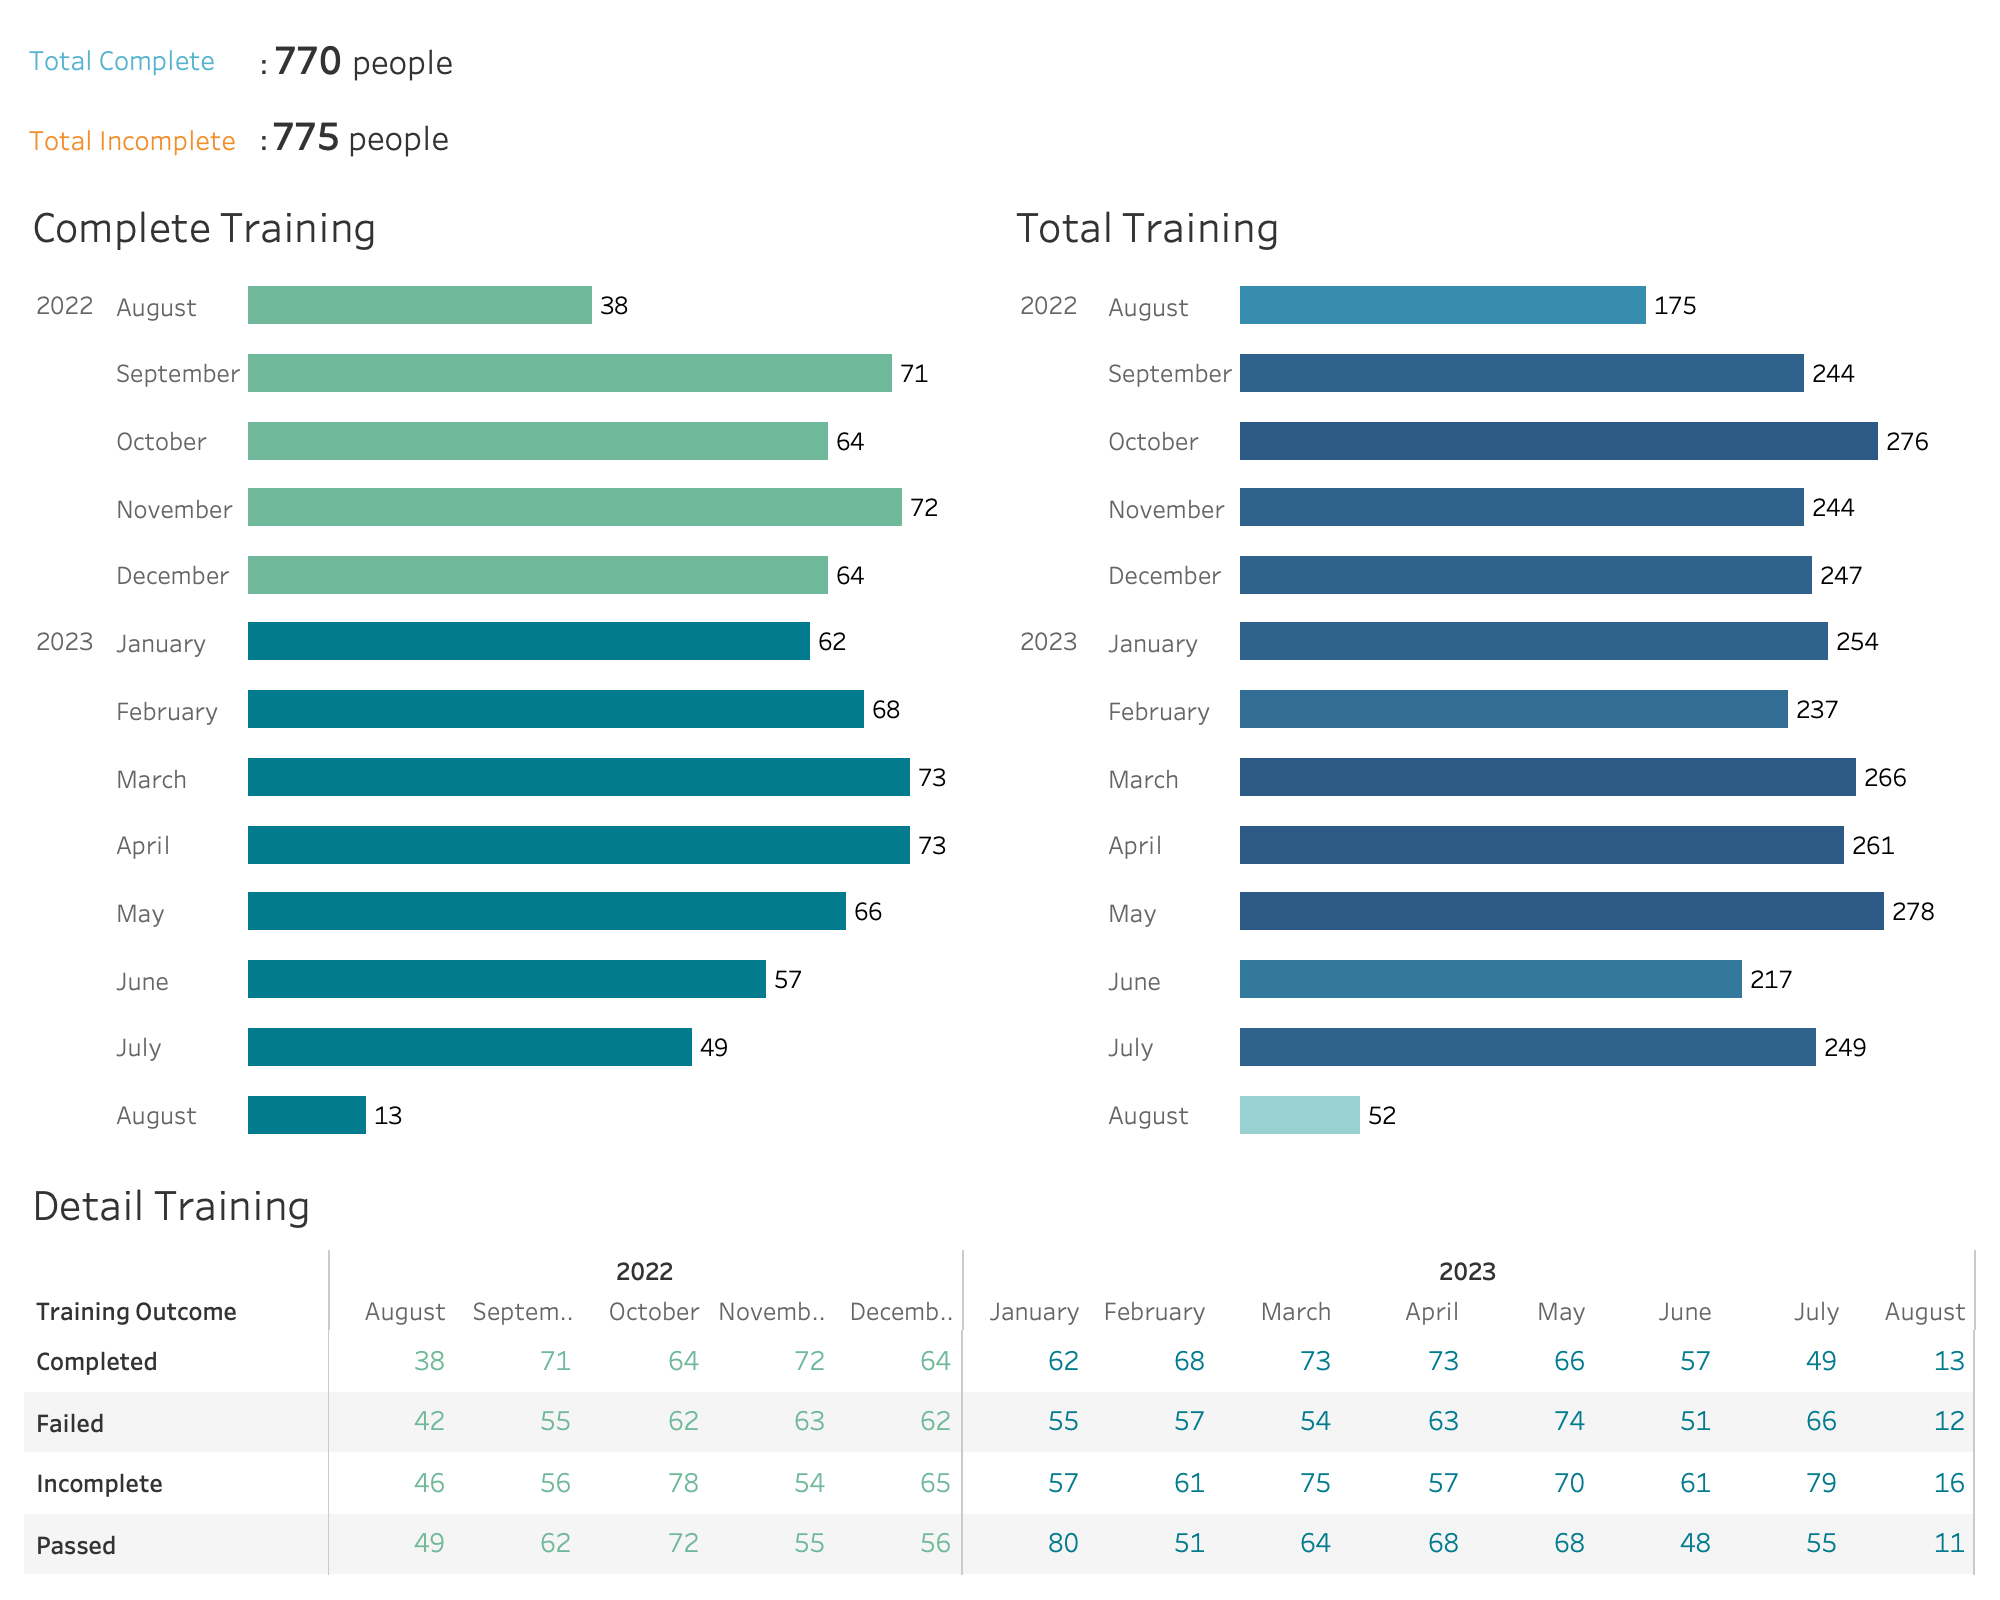

This screenshot's page, from the dashboard's own definition file:
{"tool":"tableau","page":{"name":"Dashboard 1","canvas":[1000,800],"ordinal":0},"visuals":[{"type":"text","box":[8,8,114,43]},{"type":"worksheet","title":"Total Complete","mark":"Automatic","box":[122,8,870,43]},{"type":"text","box":[8,51,114,38]},{"type":"worksheet","title":"Total Incomplete","mark":"Automatic","box":[122,51,870,34]},{"type":"worksheet","title":"Complete Training","mark":"Bar","rows":["end_of_training","end_of_training"],"cols":["Calculation_6324672386668285952"],"box":[8,89,492,489]},{"type":"worksheet","title":"Total Training","mark":"Bar","rows":["end_of_training","end_of_training"],"cols":["Calculation_6324672386668285952"],"box":[500,89,492,489]},{"type":"worksheet","title":"Detail Total Training","mark":"Text","rows":["training_outcome"],"cols":["end_of_training","end_of_training"],"box":[8,578,984,214]}]}

Visuals, with their boxes in screenshot pixels (x1, y1, x2, y2), scaled from the page's 1000x800 canvas onto the 2000x1600 screenshot:
text: select_region(16, 16, 244, 102)
"Total Complete" worksheet: select_region(244, 16, 1984, 102)
text: select_region(16, 102, 244, 178)
"Total Incomplete" worksheet: select_region(244, 102, 1984, 170)
"Complete Training" worksheet (Bar marks): select_region(16, 178, 1000, 1156)
"Total Training" worksheet (Bar marks): select_region(1000, 178, 1984, 1156)
"Detail Total Training" worksheet (Text marks): select_region(16, 1156, 1984, 1584)
